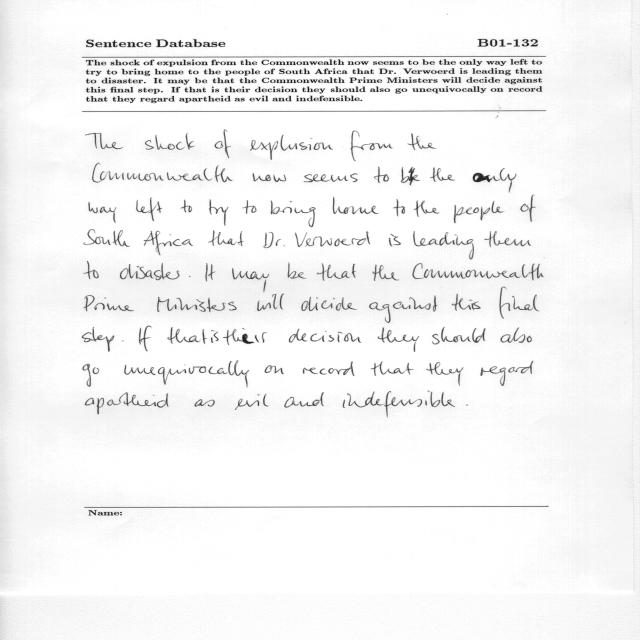word: (124, 361, 249, 388), (343, 391, 455, 417), (93, 163, 233, 182), (412, 263, 544, 280), (250, 135, 333, 160), (370, 295, 438, 323), (85, 393, 169, 415), (413, 232, 474, 260), (481, 361, 534, 386), (500, 287, 540, 319), (351, 131, 393, 161), (144, 231, 193, 256), (295, 231, 370, 247), (157, 297, 237, 312), (271, 201, 316, 227), (454, 201, 504, 223), (473, 168, 516, 193), (377, 327, 419, 352), (120, 263, 180, 280), (289, 329, 361, 343), (432, 327, 486, 344), (232, 268, 269, 292), (427, 362, 464, 386), (145, 133, 195, 150), (84, 229, 130, 247), (84, 295, 134, 311), (83, 327, 115, 352), (301, 297, 357, 311), (333, 197, 379, 214), (303, 362, 354, 377), (484, 231, 531, 247), (223, 328, 267, 345), (317, 263, 356, 281), (167, 327, 207, 344), (370, 361, 414, 376), (284, 392, 324, 408), (136, 198, 162, 221), (86, 133, 123, 149), (208, 230, 244, 246), (89, 202, 116, 223), (235, 394, 269, 410), (209, 199, 228, 226), (500, 327, 532, 343), (408, 133, 437, 150), (452, 294, 481, 311), (304, 174, 358, 183), (257, 293, 284, 311), (215, 130, 231, 158), (414, 200, 440, 217), (373, 265, 399, 281), (521, 195, 536, 222), (430, 167, 455, 182), (83, 364, 99, 387), (263, 232, 285, 248), (401, 167, 420, 185), (139, 326, 151, 351), (253, 173, 286, 182), (288, 263, 306, 279), (84, 262, 99, 279), (374, 167, 389, 183), (393, 200, 405, 217), (205, 263, 216, 281), (243, 200, 257, 214), (265, 365, 284, 374), (194, 400, 215, 407), (389, 234, 401, 246), (181, 200, 192, 213), (211, 330, 219, 343), (189, 276, 191, 277), (122, 341, 124, 342), (466, 405, 468, 406)
